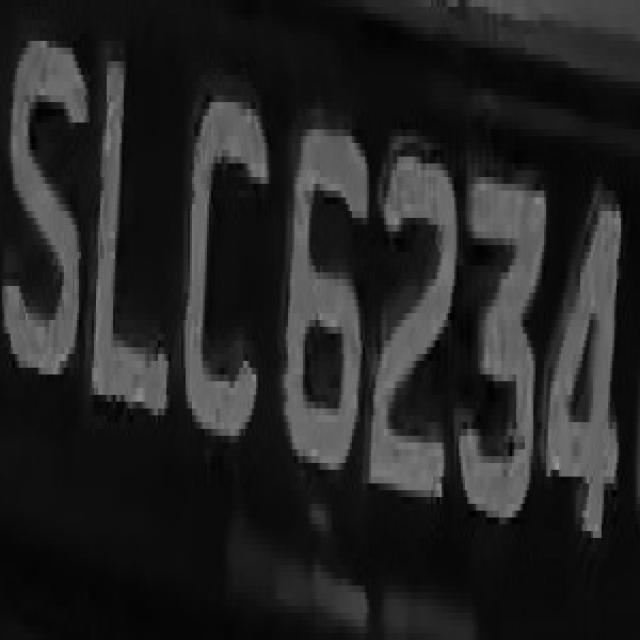2: (376, 122, 456, 518)
3: (463, 163, 548, 545)
4: (552, 171, 638, 558)
6: (288, 61, 369, 504)
C: (185, 61, 268, 470)
L: (92, 34, 177, 436)
S: (6, 0, 87, 415)
